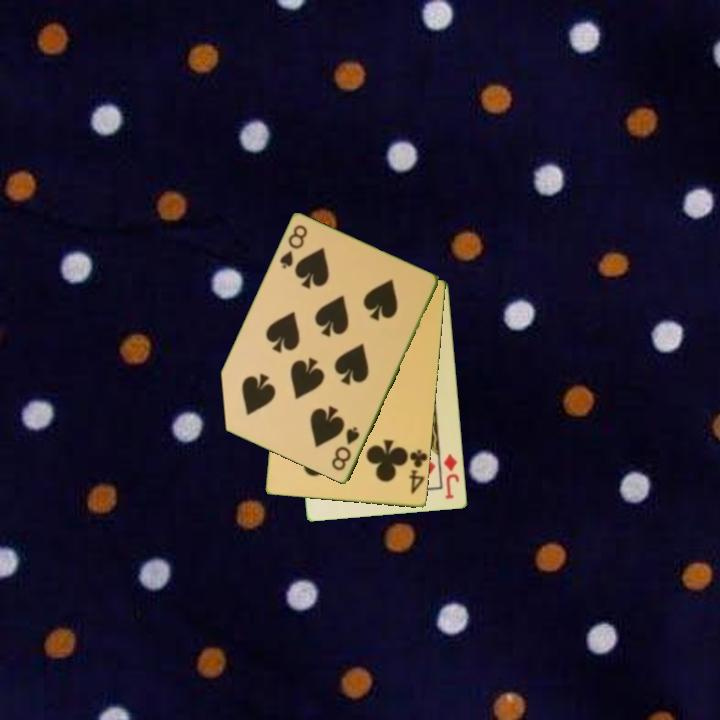4c: (406, 446, 429, 497)
8s: (328, 423, 363, 474), (276, 222, 311, 272)
Jd: (441, 451, 463, 502)
